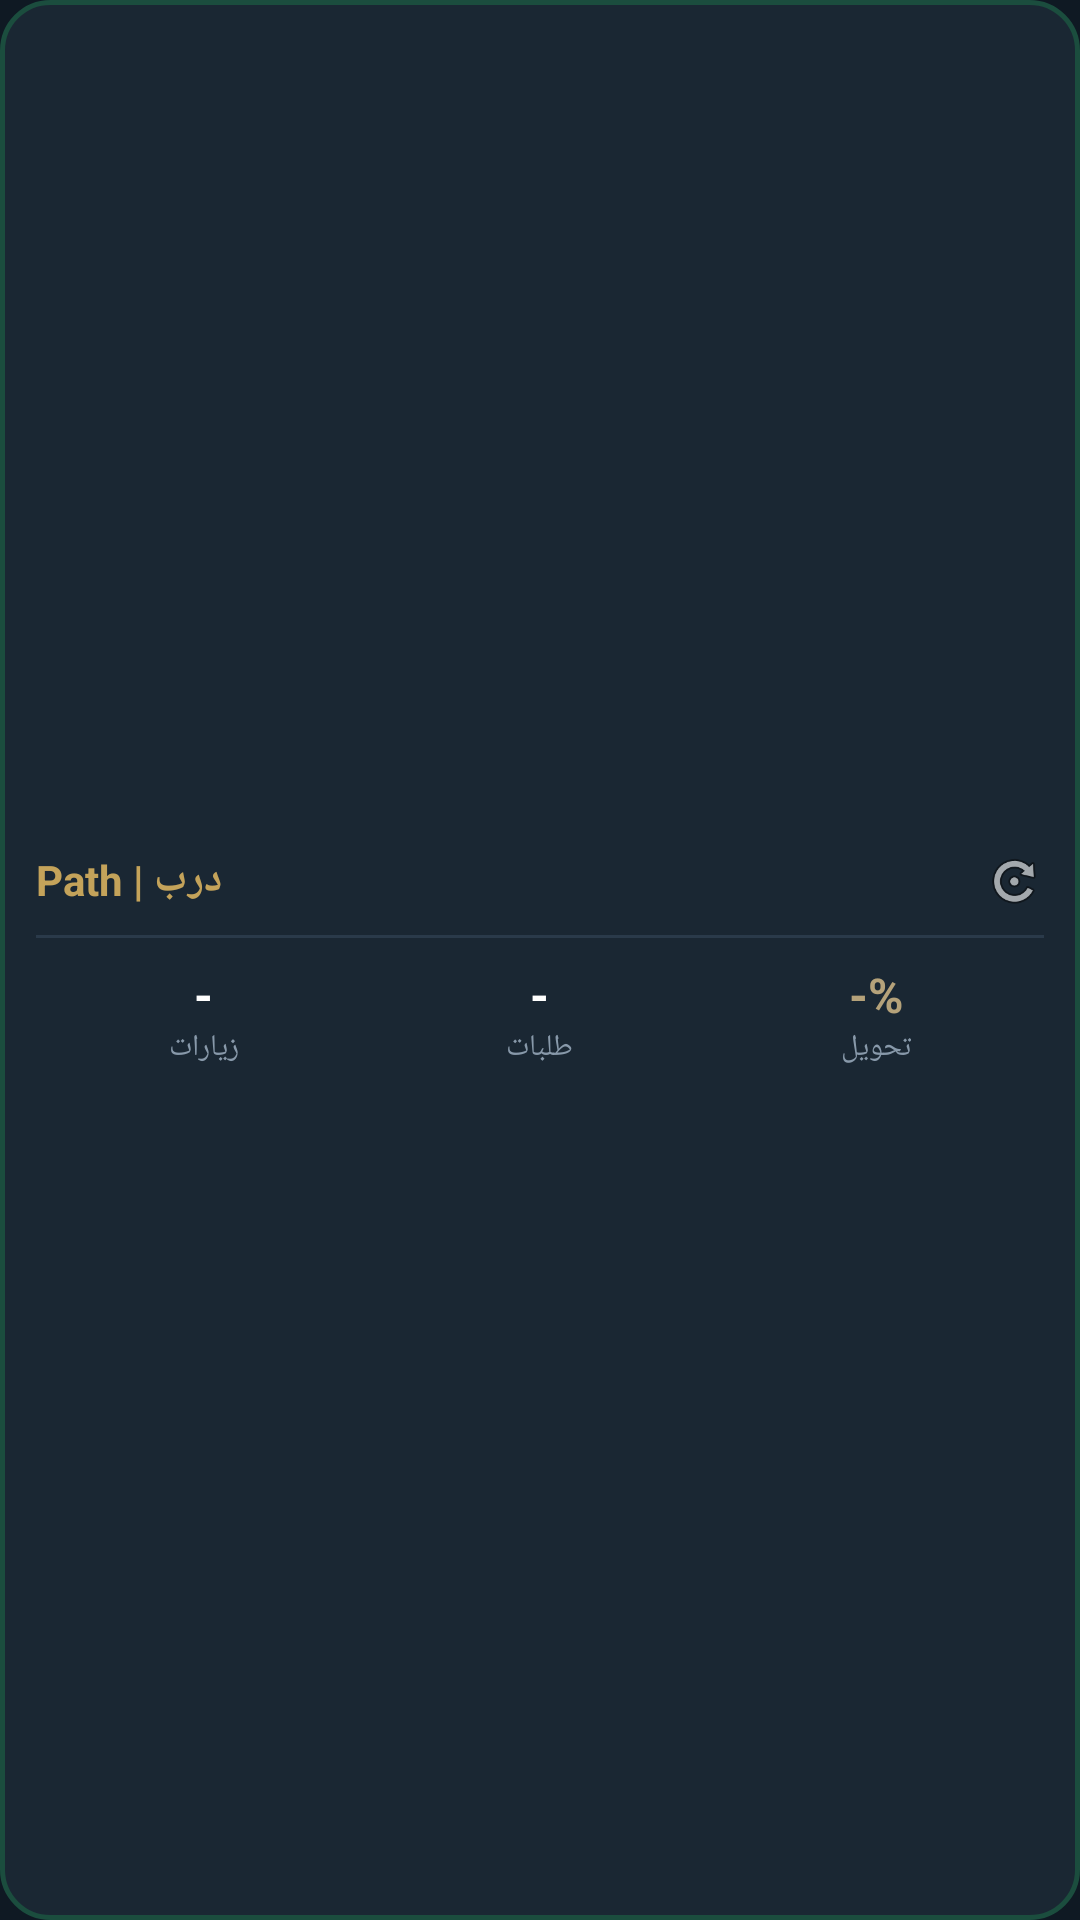

Named icons in this screenshot (1080px×1920px) and their centers, (x=x, y=y):
Refresh: (x=1014, y=881)
